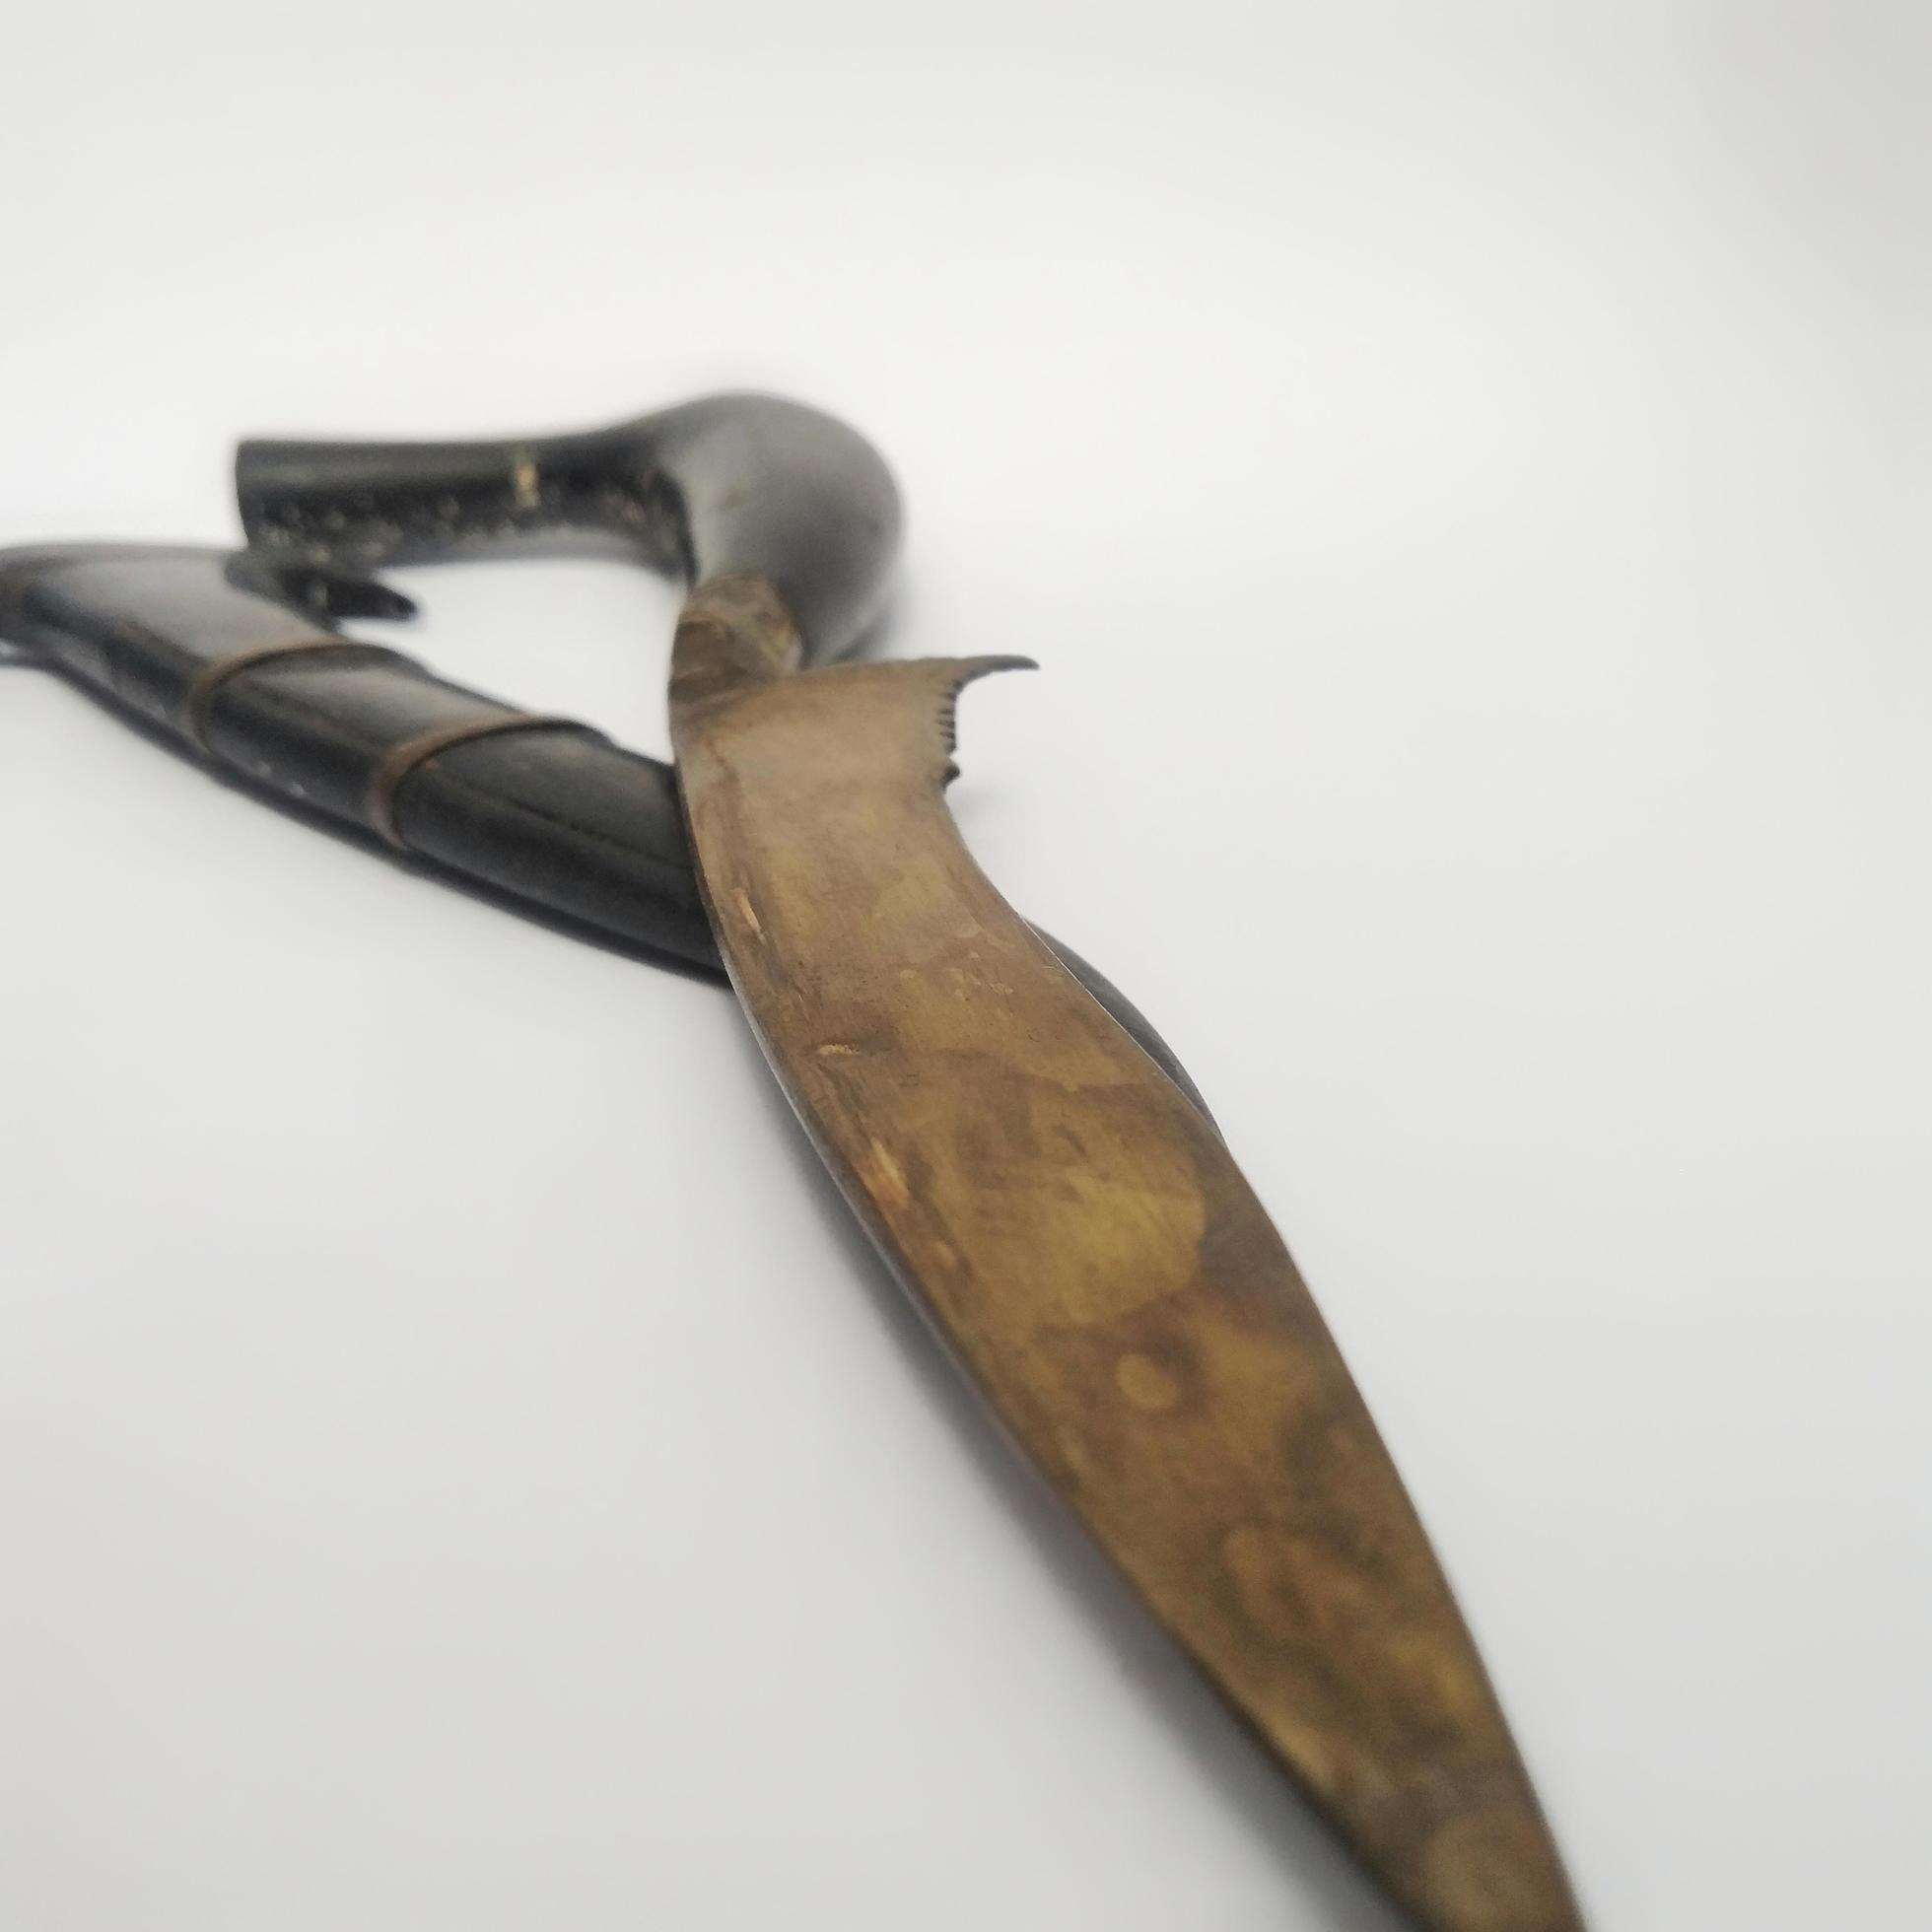facao: (237, 395, 1583, 1930)
